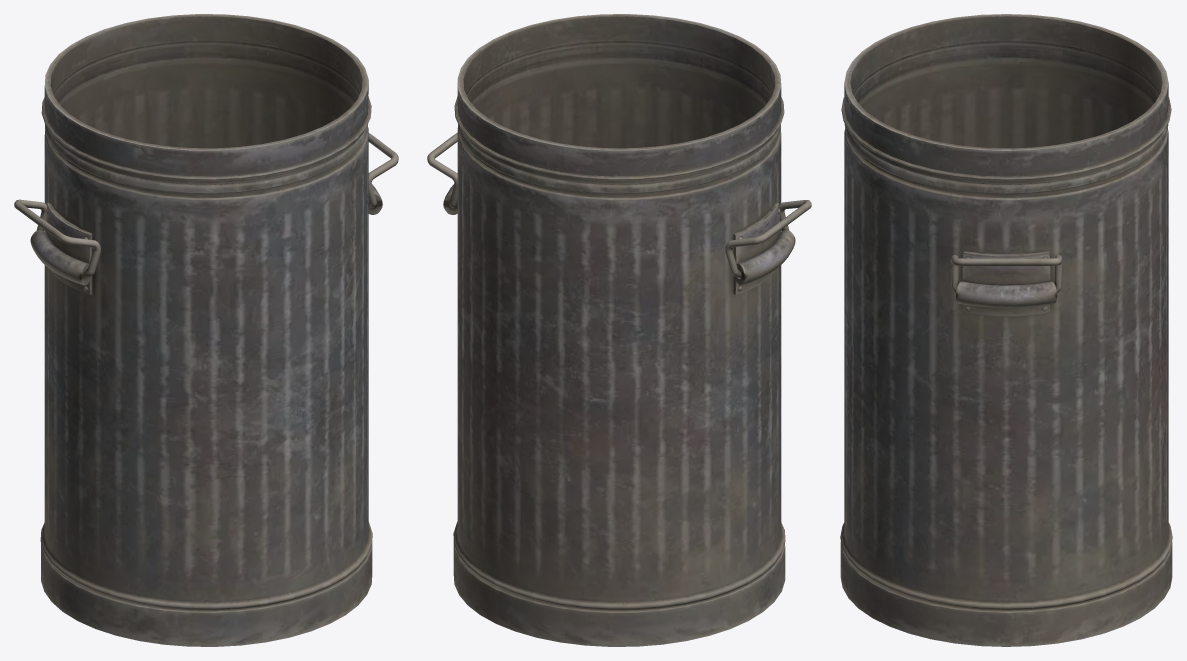
Rendered from trash-bin.glb.
3 views of the same model, side by side, from view 1: azimuth 30°, elevation 25°; view 2: azimuth 150°, elevation 25°; view 3: azimuth 270°, elevation 25° (orthographic).
Visible parts, largest first — view 1: trash_bin; view 2: trash_bin; view 3: trash_bin.
Part boxes in pixels (left/top/right/bottom): trash_bin: left=14, top=14, right=398, bottom=646; trash_bin: left=427, top=14, right=811, bottom=646; trash_bin: left=840, top=14, right=1172, bottom=646.
Bounding box in the file's own units: 0.651 × 0.9062 × 0.5524.
1 material, 1 textured.
